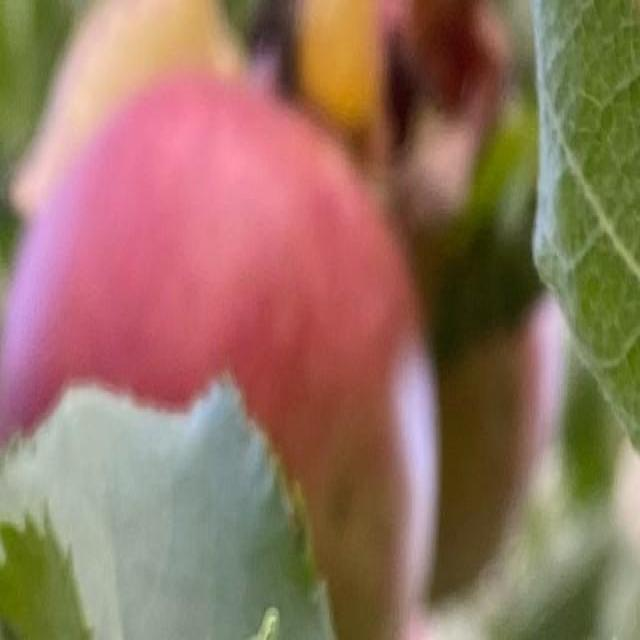Rotten Apple: (0, 66, 441, 640), (439, 282, 553, 602)
